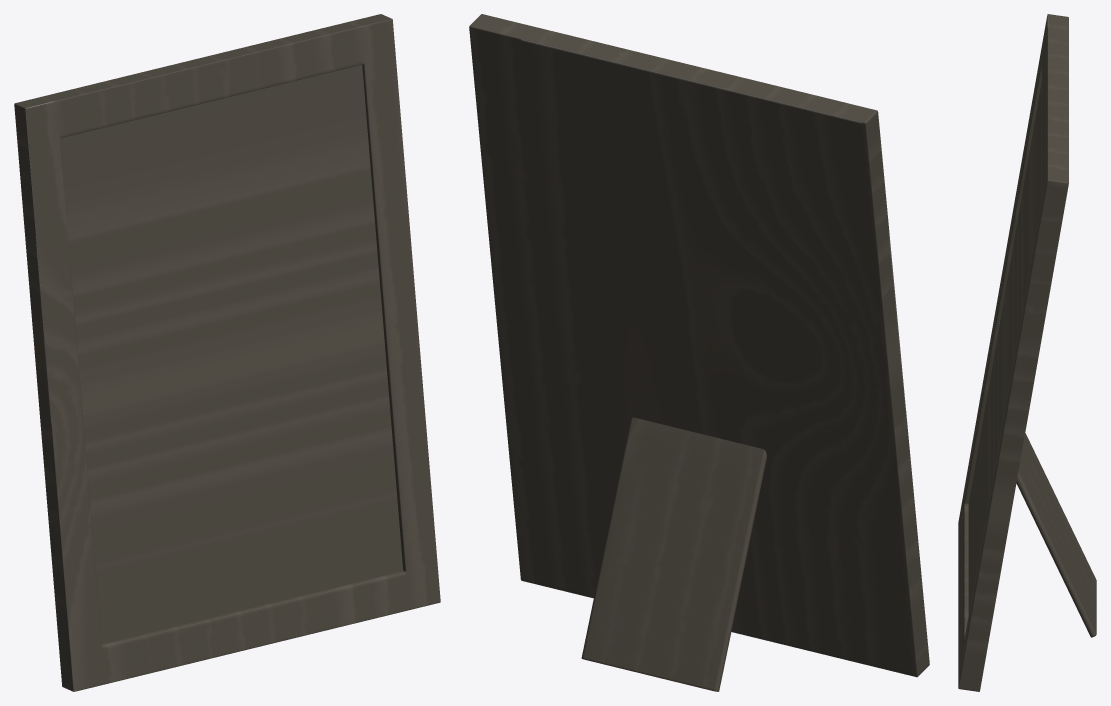
The model's file is PhotoFrame_02_for_Texturing.fbx.
The picture shows the model from 3 angles, left to right: view 1: azimuth 30°, elevation 25°; view 2: azimuth 150°, elevation 25°; view 3: azimuth 270°, elevation 25°; orthographic projection. The views are drawn at different scales.
Visible parts, largest first — view 1: StandingPhotoFrame_01; view 2: StandingPhotoFrame_01; view 3: StandingPhotoFrame_01.
Boxes of the visible parts, x1,y1,x2,y2 form: StandingPhotoFrame_01: (14,14,440,691); StandingPhotoFrame_01: (469,14,929,691); StandingPhotoFrame_01: (958,14,1096,691).
Size of the model in its own units: 18 by 25.83 by 6.31.
